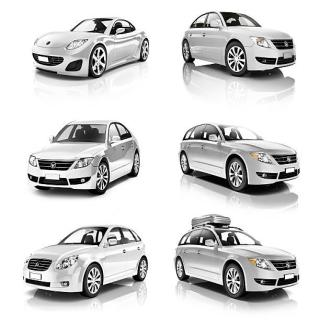Normal_vehicle: (172, 108, 305, 199), (21, 217, 150, 302), (173, 213, 303, 295), (172, 4, 302, 85), (29, 8, 150, 88), (21, 116, 146, 192)
